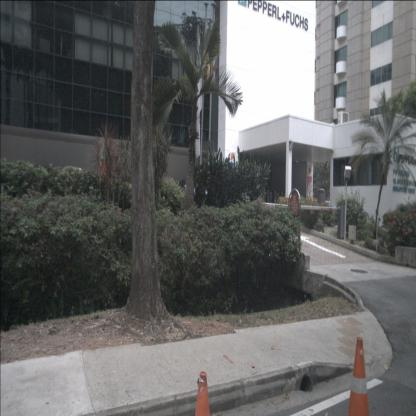movable_object-trafficcone: (347, 336, 371, 416), (194, 370, 211, 416)
